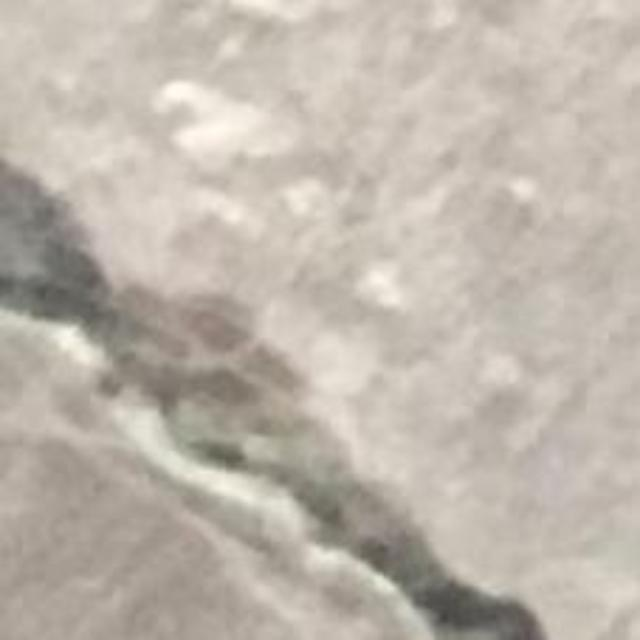crack: (0, 161, 546, 639)
